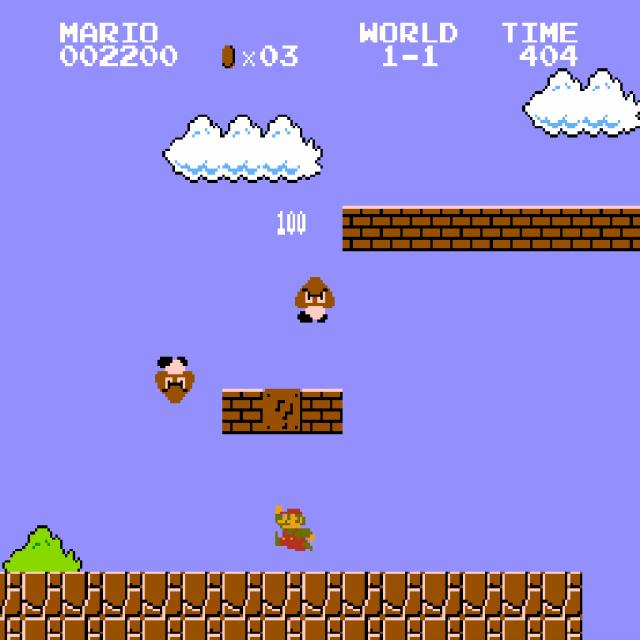brick_block: (222, 389, 263, 434), (302, 389, 343, 434), (342, 206, 383, 251), (382, 206, 423, 251), (422, 206, 463, 251), (462, 206, 503, 251), (502, 206, 543, 251), (542, 206, 583, 251), (582, 206, 623, 251), (622, 205, 640, 251)
little_mario: (273, 503, 315, 552)
mystery_block: (262, 389, 303, 434)
undestructible_block: (22, 572, 63, 617), (62, 572, 103, 617), (102, 572, 143, 617), (142, 572, 183, 617), (182, 572, 223, 617), (222, 572, 263, 617), (262, 572, 303, 617), (302, 572, 343, 617), (342, 572, 383, 617), (382, 572, 423, 617), (422, 572, 463, 617), (462, 572, 503, 617), (502, 572, 543, 617), (542, 572, 583, 617), (0, 572, 22, 617), (22, 617, 63, 640), (62, 617, 103, 640), (102, 617, 143, 640), (142, 617, 183, 640), (182, 617, 223, 640), (222, 617, 263, 640), (262, 617, 303, 640), (302, 617, 343, 640), (342, 617, 383, 640), (382, 617, 423, 640), (422, 617, 463, 640), (462, 617, 503, 640), (502, 617, 543, 640), (542, 617, 583, 640), (0, 617, 22, 640)
